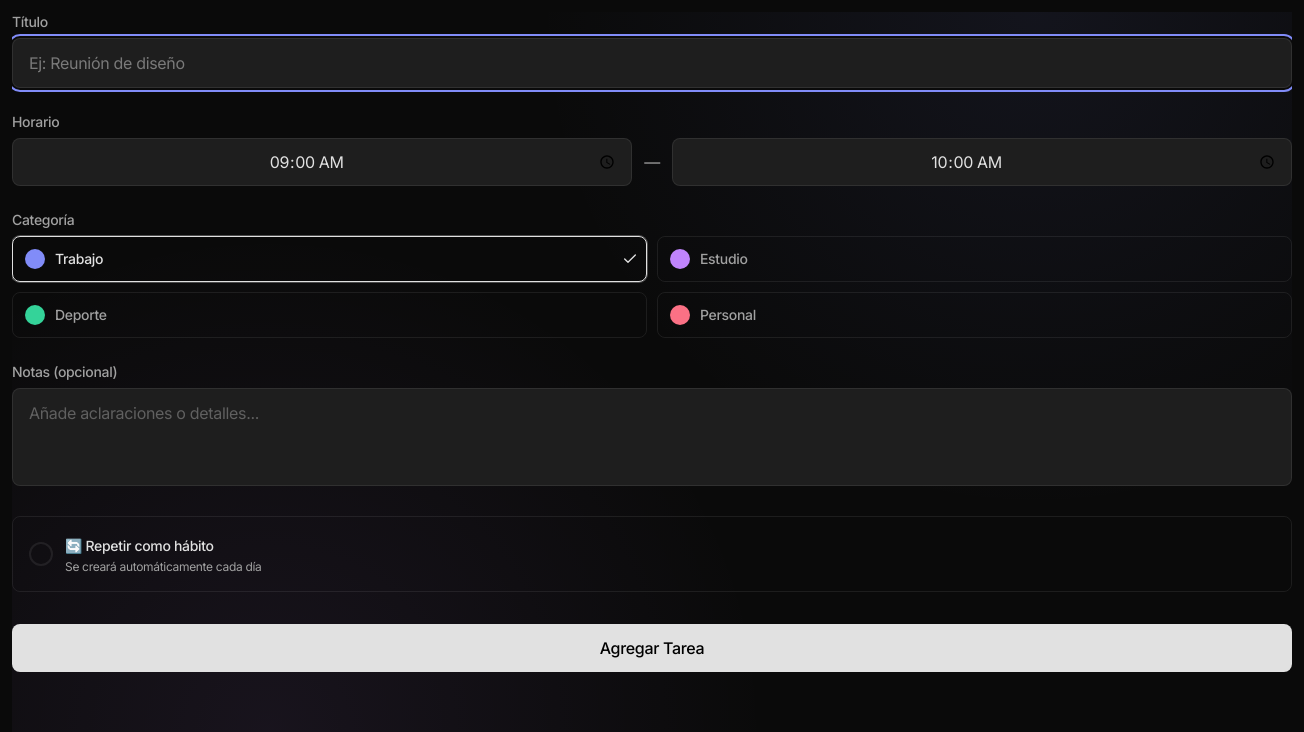
Scenario: TaskForm › shows error when end time is before start time
The width and height of the screenshot is (1304, 732).
Clear the 2nd time field showing "10:00" at (982, 162), box left=672, top=138, right=1292, bottom=186
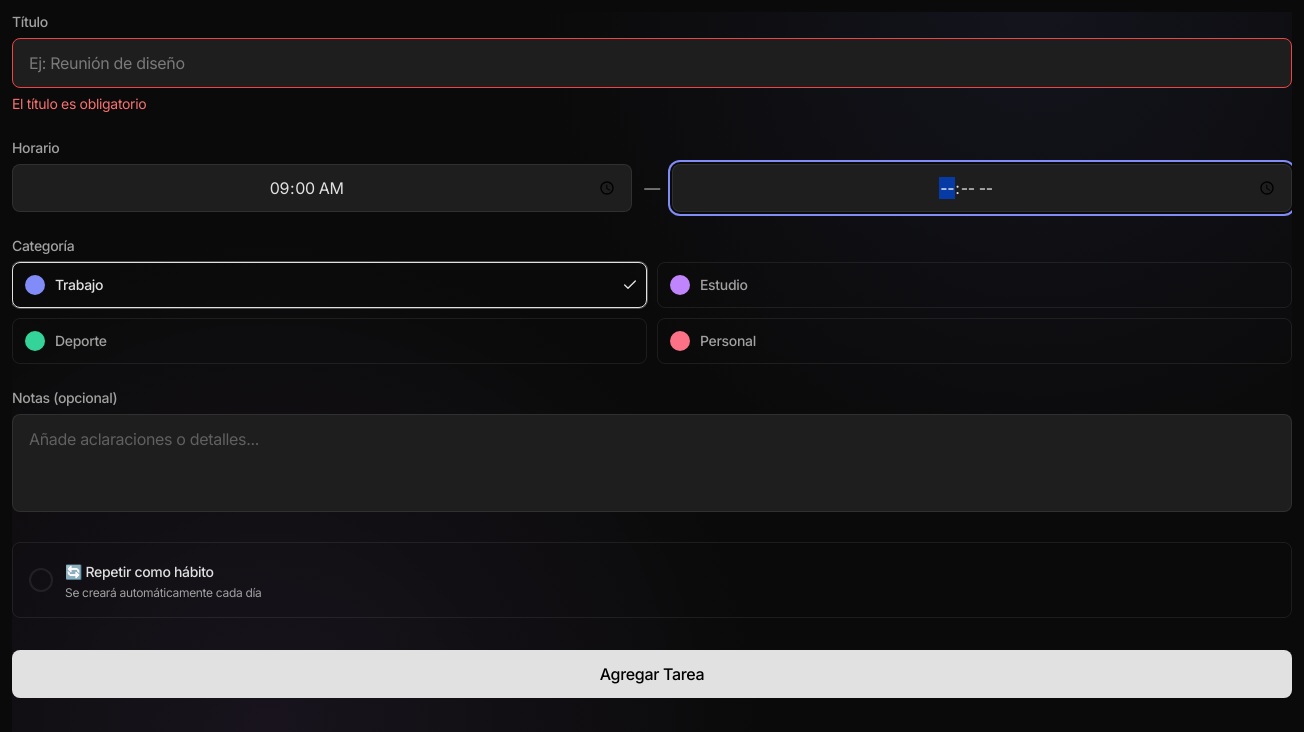
Type "08:00" into the 2nd time field showing "10:00".
click(982, 188); type("08:00")  # box left=672, top=164, right=1292, bottom=212
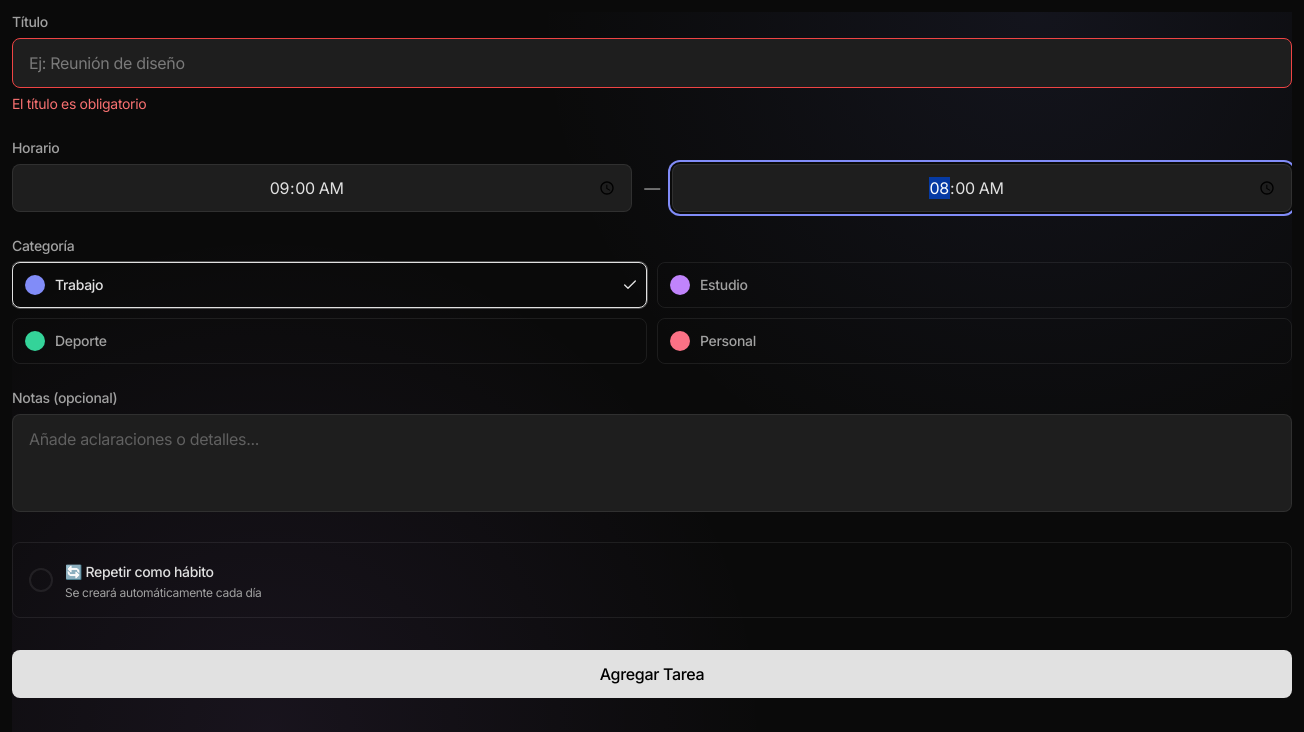
Press Tab
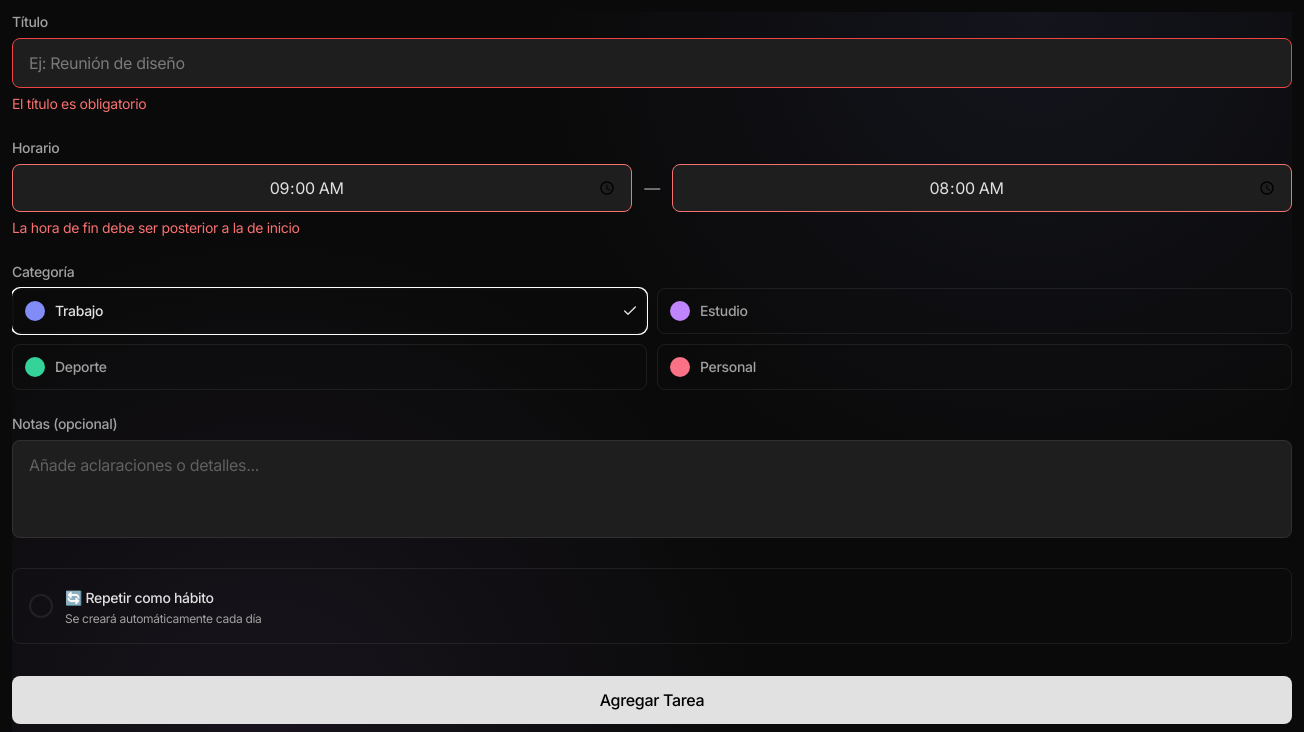
Check: the text "La hora de fin debe ser posterior a la de inicio" is shown, box left=12, top=219, right=300, bottom=236
